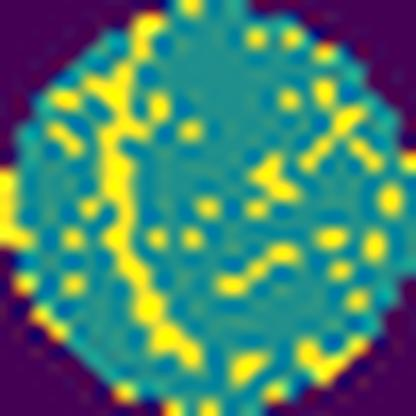Scratch: (46, 13, 212, 372)
